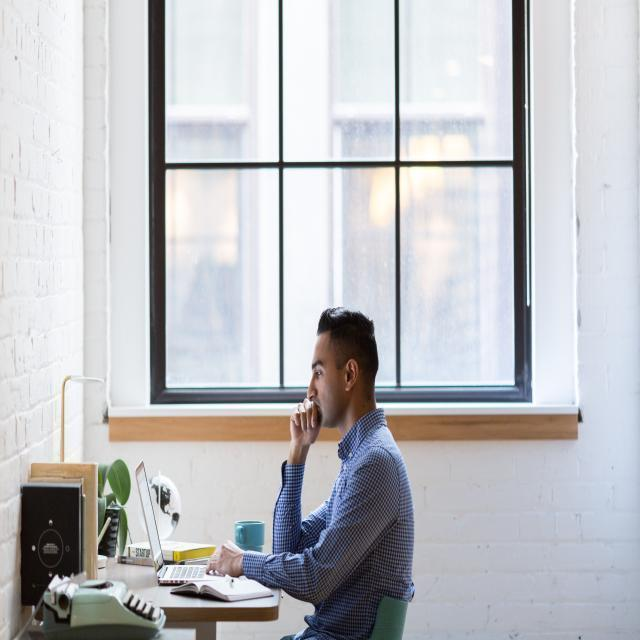No_BreathingApparatus: (302, 346, 349, 427)
No_Glove: (284, 401, 317, 466), (205, 537, 250, 582)
No_Goggles: (306, 362, 347, 380)
No_Helmet: (309, 302, 376, 354)
Person: (252, 298, 422, 632)
